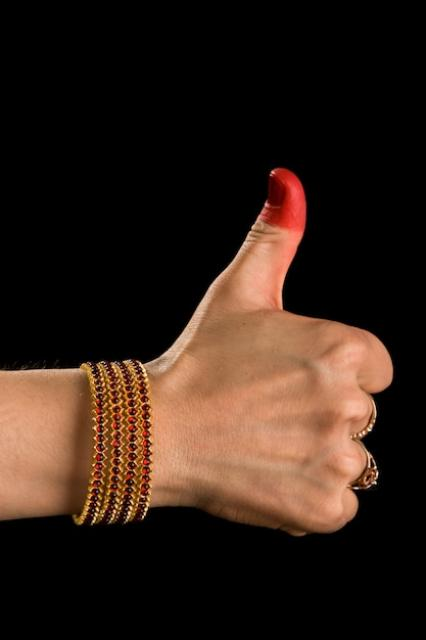shikhar: (0, 169, 394, 537)
